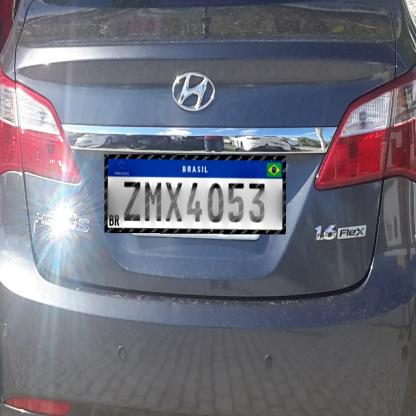PlacaM: (104, 154, 286, 235)
